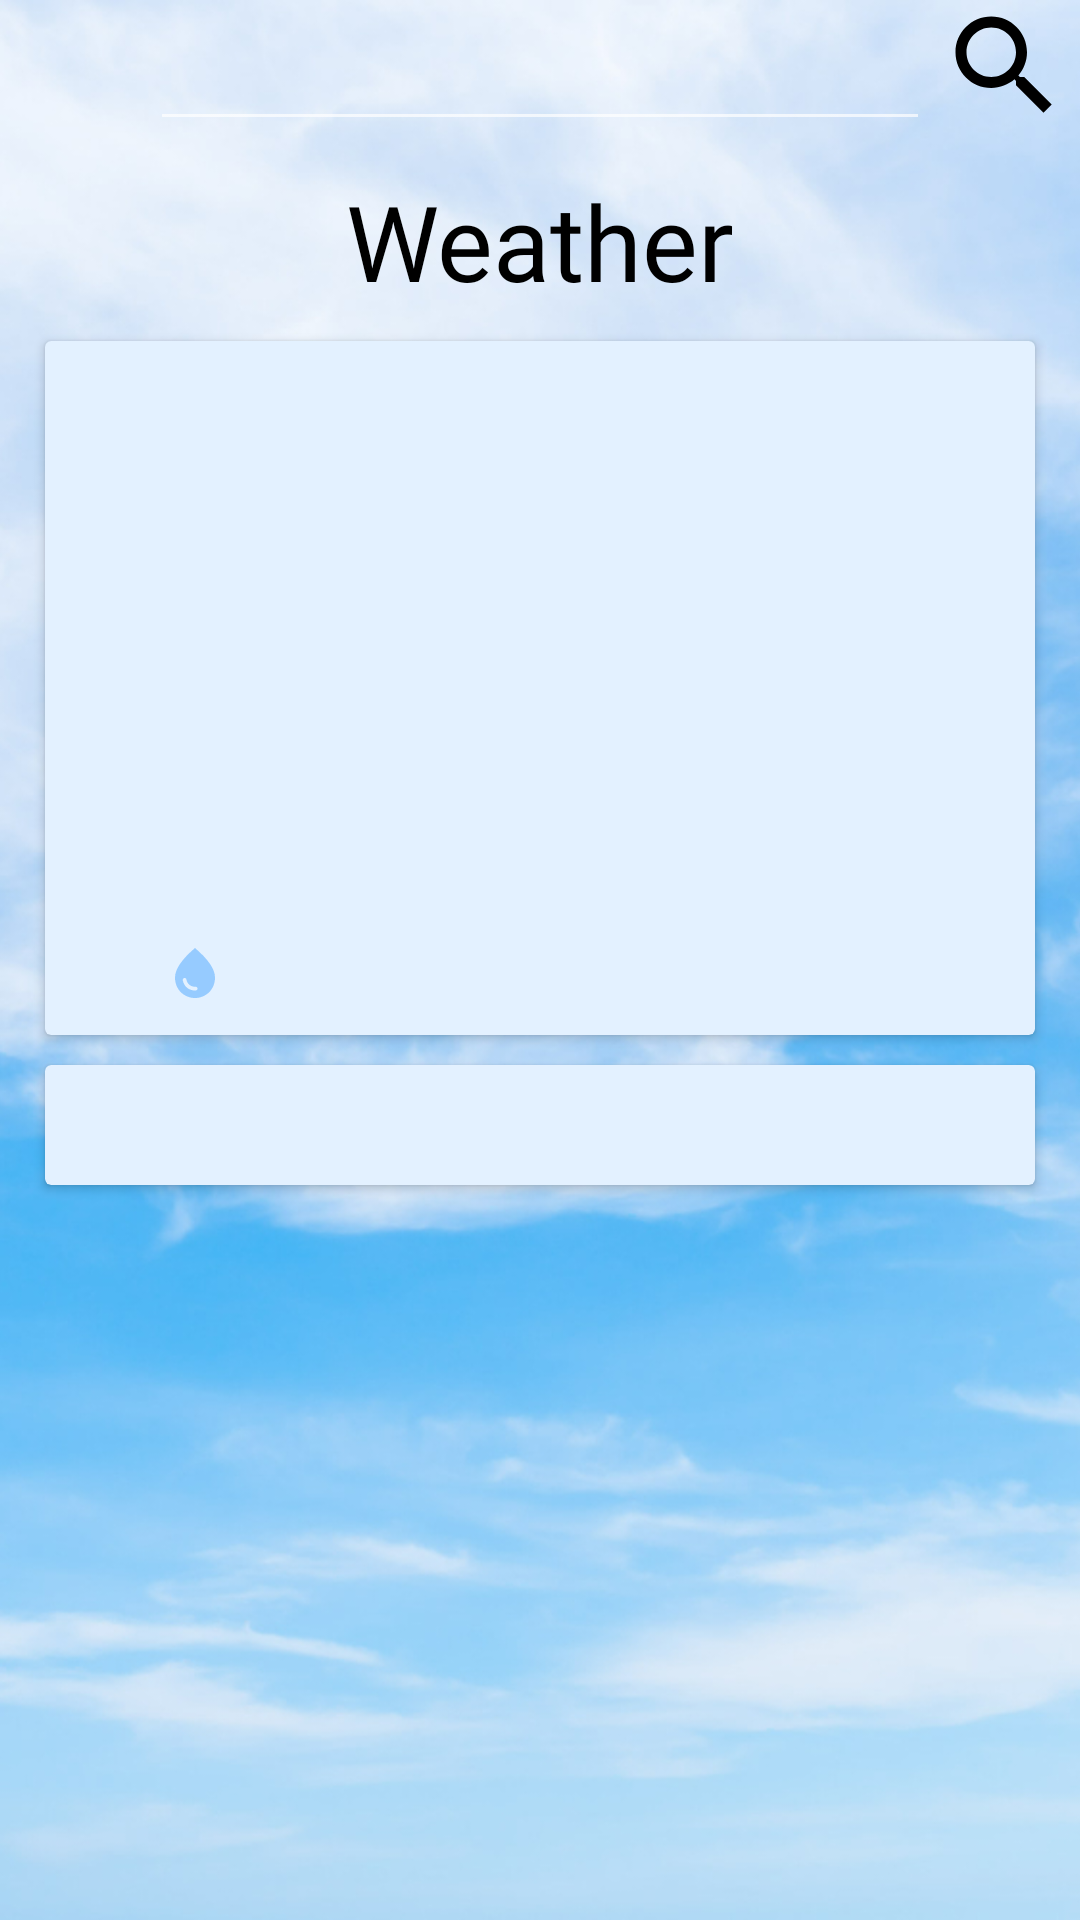

Locate icon controls on the screen. Image size 1080px x 1920px, boxes as (x1, y1, x2, y2).
search: (955, 0, 1052, 113)
water drop: (175, 948, 215, 998)
